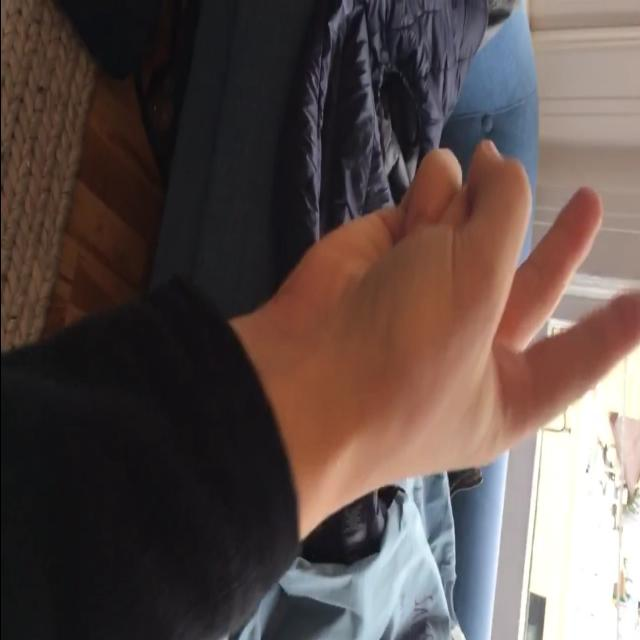Scissors: (299, 136, 640, 494)
